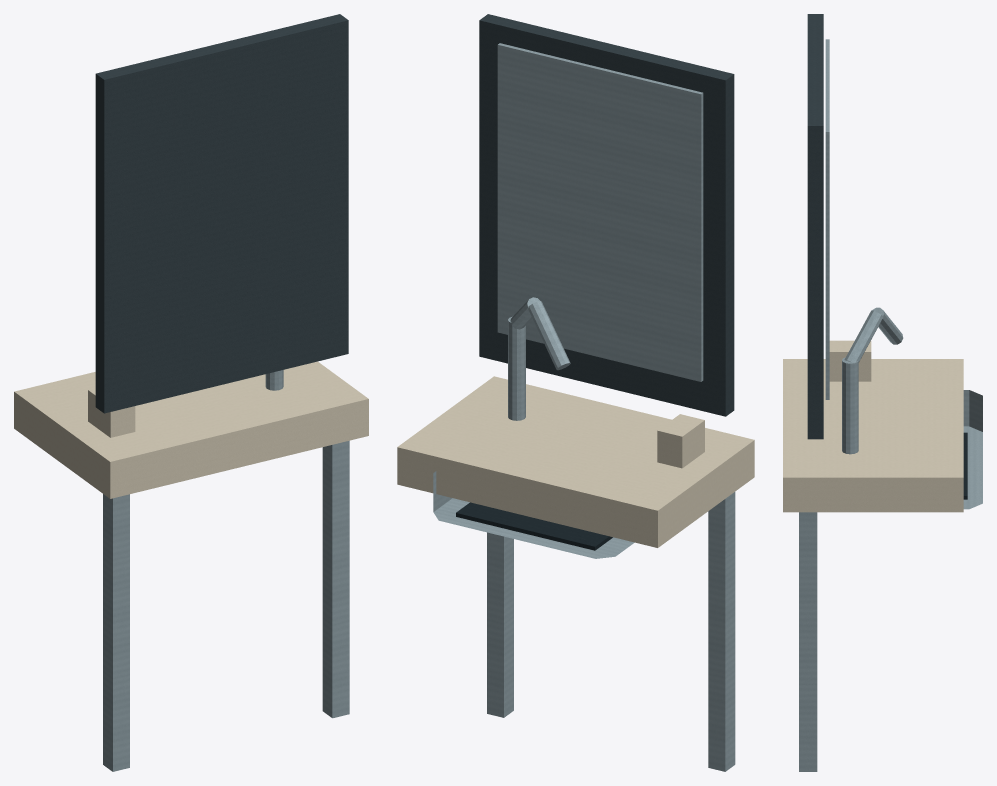
The model's file is hygiene_washbasin.glb.
The picture shows the model from 3 angles, left to right: view 1: azimuth 30°, elevation 25°; view 2: azimuth 150°, elevation 25°; view 3: azimuth 270°, elevation 25°; orthographic projection. The views are drawn at different scales.
Visible parts, largest first — view 1: Mirror_Frame__graphite, Counter__cream, Support_Frame__alloy, Soap_Dispenser__cream; view 2: Mirror_Surface__alloy, Counter__cream, Mirror_Frame__graphite, Support_Frame__alloy, Tap__alloy, Basin_Interior__carbon, Washbasin__alloy, Soap_Dispenser__cream; view 3: Counter__cream, Mirror_Frame__graphite, Support_Frame__alloy, Tap__alloy, Washbasin__alloy, Mirror_Surface__alloy, Soap_Dispenser__cream.
Part boxes in pixels (x1,y1,x2,y2): Mirror_Frame__graphite: [95, 14, 348, 413]; Counter__cream: [14, 361, 368, 498]; Support_Frame__alloy: [103, 440, 349, 771]; Soap_Dispenser__cream: [88, 388, 135, 437]; Mirror_Surface__alloy: [497, 43, 703, 381]; Counter__cream: [397, 376, 754, 547]; Mirror_Frame__graphite: [479, 14, 734, 416]; Support_Frame__alloy: [487, 492, 735, 771]; Tap__alloy: [508, 297, 570, 420]; Basin_Interior__carbon: [456, 502, 612, 550]; Washbasin__alloy: [433, 471, 634, 558]; Soap_Dispenser__cream: [657, 414, 704, 468]; Counter__cream: [783, 359, 963, 512]; Mirror_Frame__graphite: [807, 14, 823, 439]; Support_Frame__alloy: [799, 512, 817, 771]; Tap__alloy: [842, 307, 903, 454]; Washbasin__alloy: [963, 390, 982, 509]; Mirror_Surface__alloy: [825, 39, 829, 399]; Soap_Dispenser__cream: [829, 340, 871, 381].
Size of the model in its own units: 0.73 by 1.86 by 0.52.
Materials: 4 (4 with a texture image).
